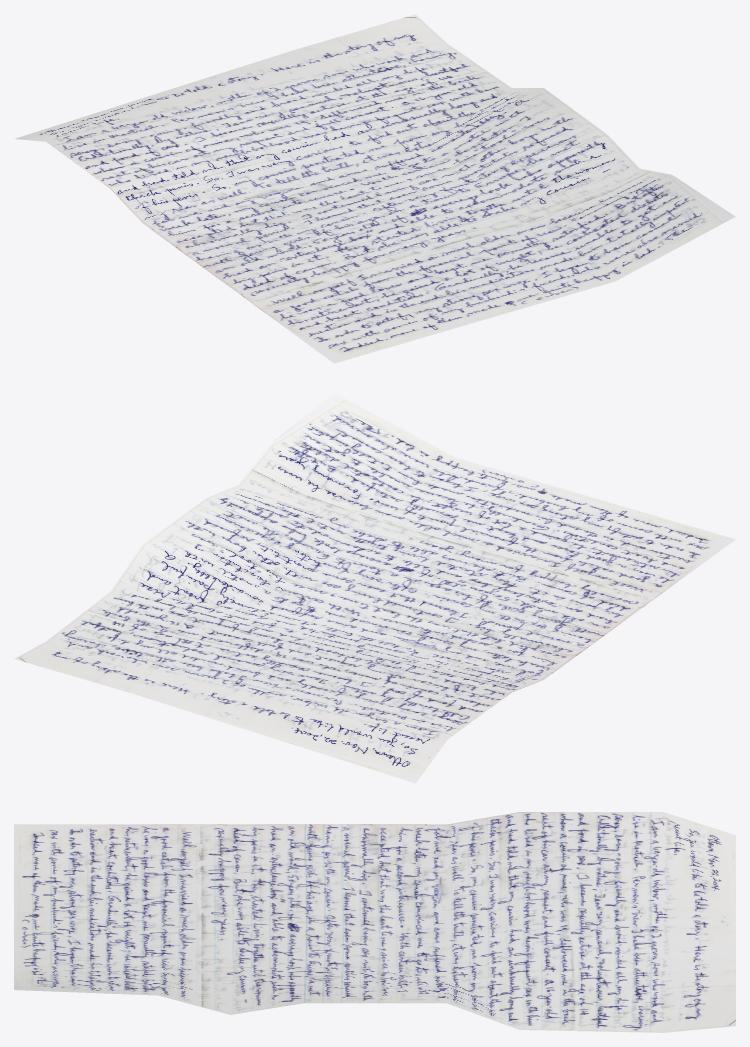
File: paper4.fbx
3 views of the same model, one above another, from view 1: azimuth 30°, elevation 25°; view 2: azimuth 150°, elevation 25°; view 3: azimuth 270°, elevation 25° (orthographic). The views are drawn at different scales.
Visible parts, largest first — view 1: pPlane4; view 2: pPlane4; view 3: pPlane4.
Boxes of the visible parts, box(x1,y1,x2,y2) form: pPlane4: box(14, 14, 735, 363); pPlane4: box(14, 392, 735, 783); pPlane4: box(14, 812, 735, 1032).
Size of the model in its own units: 23.68 by 3.31 by 32.7.
Materials: 1 (1 with a texture image).
